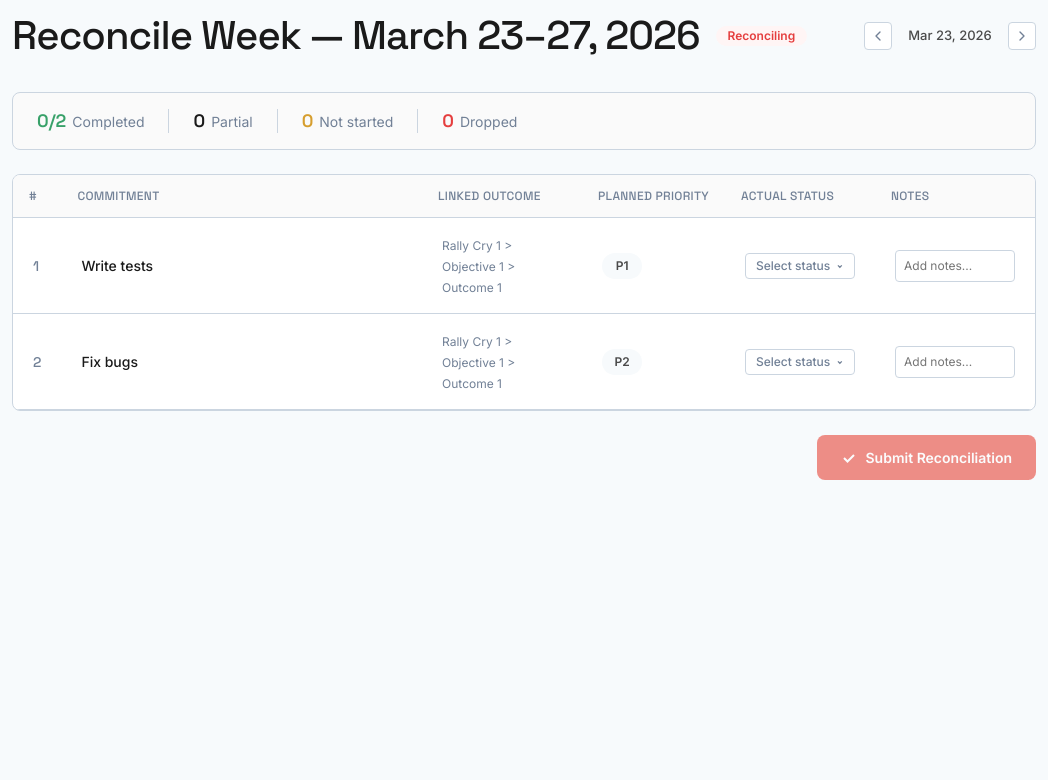
Test: ReconciliationPage › dismisses error toast when reconcileCommitment fails
What coordinates should you click on to do the following:
click the button with test id "status-select" in the row of "Write tests"
I would click on:
 (800, 266)
Its box is [745,252,855,278].
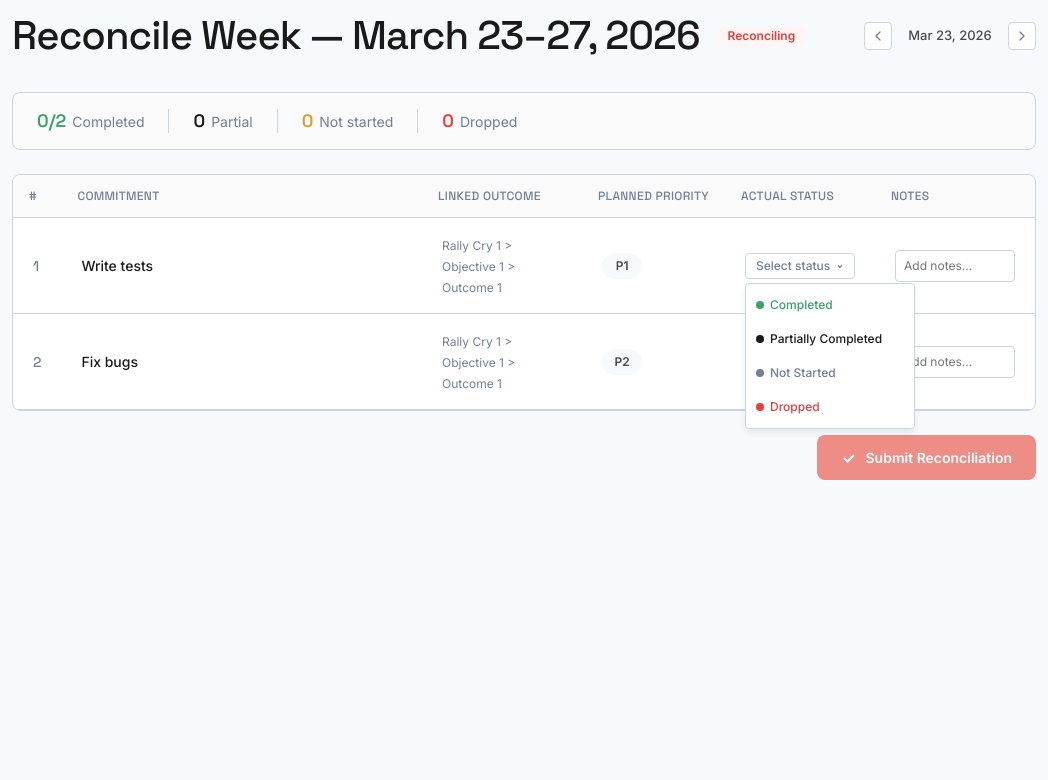
What coordinates should you click on to do the following:
click the option "Completed"
I would click on:
 (830, 304)
Its box is [746,288,914,322].
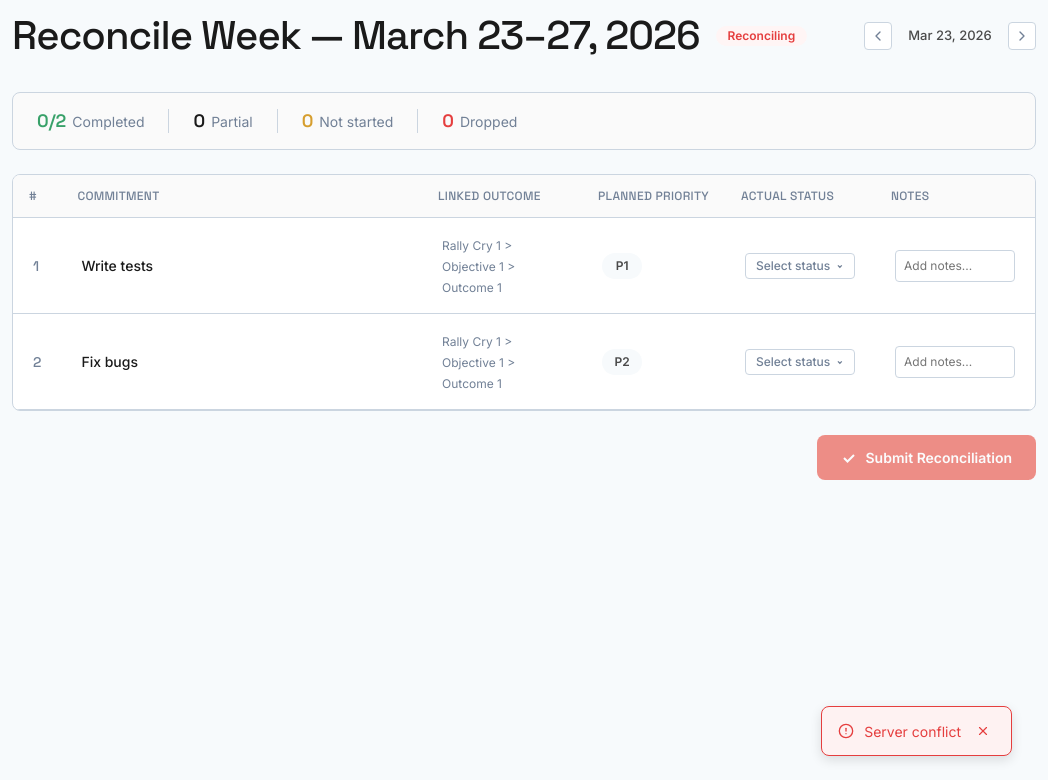
Now the text "Server conflict" is shown, box [864,720,961,742]
What coordinates should you click on to do the following:
click the button named "Dismiss error"
I would click on:
 (983, 731)
Its box is [971,719,995,743].
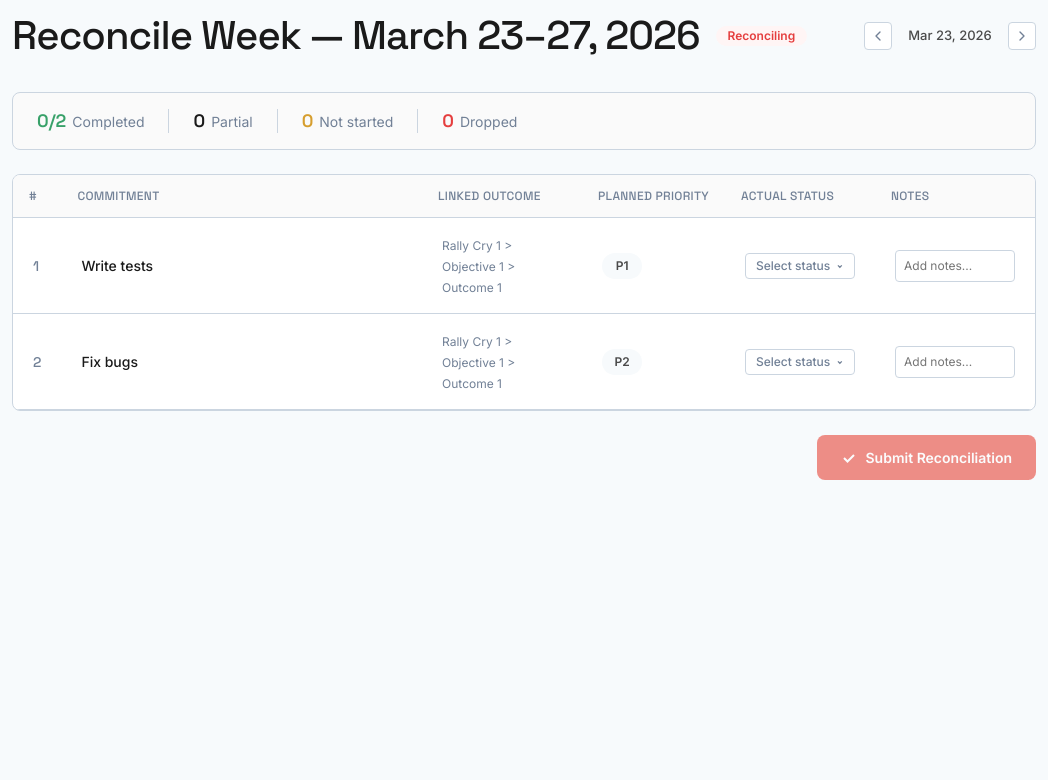
Now the message with test id "error-toast" is gone
